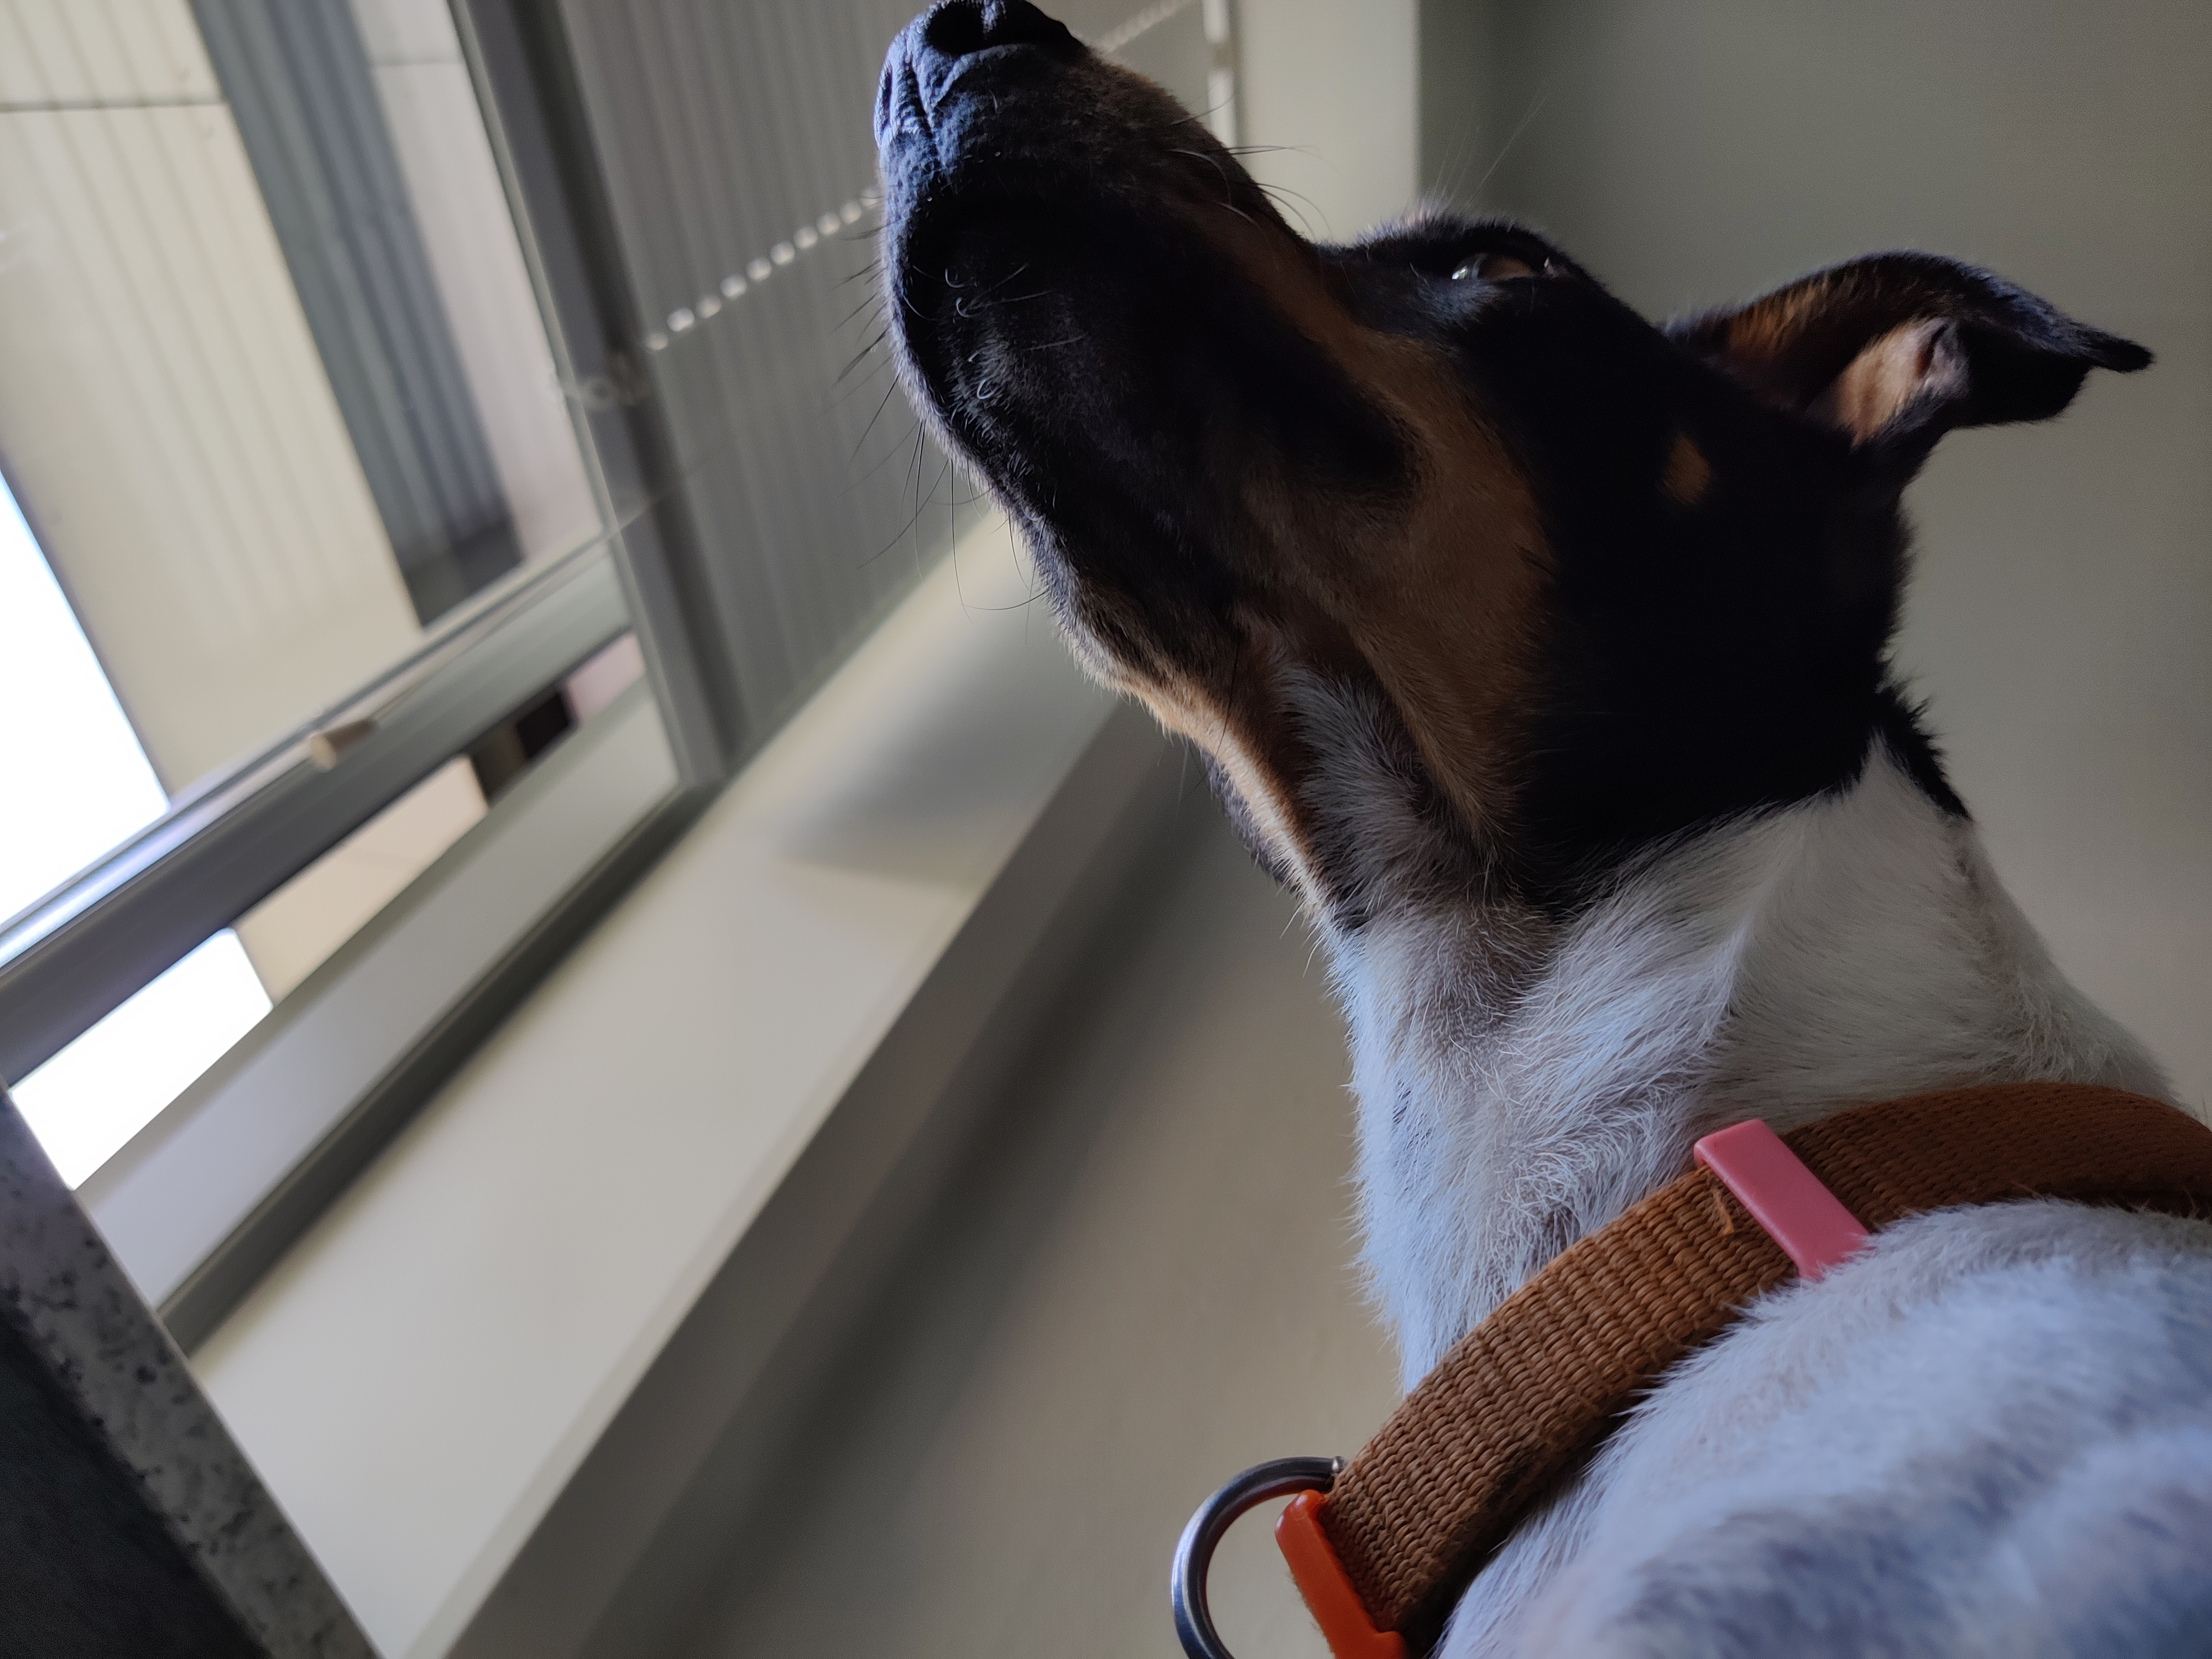Dog: (853, 0, 2212, 1659)
